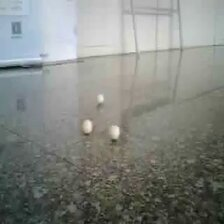tennis: (91, 110, 114, 139), (1, 84, 18, 110), (10, 62, 24, 79)
